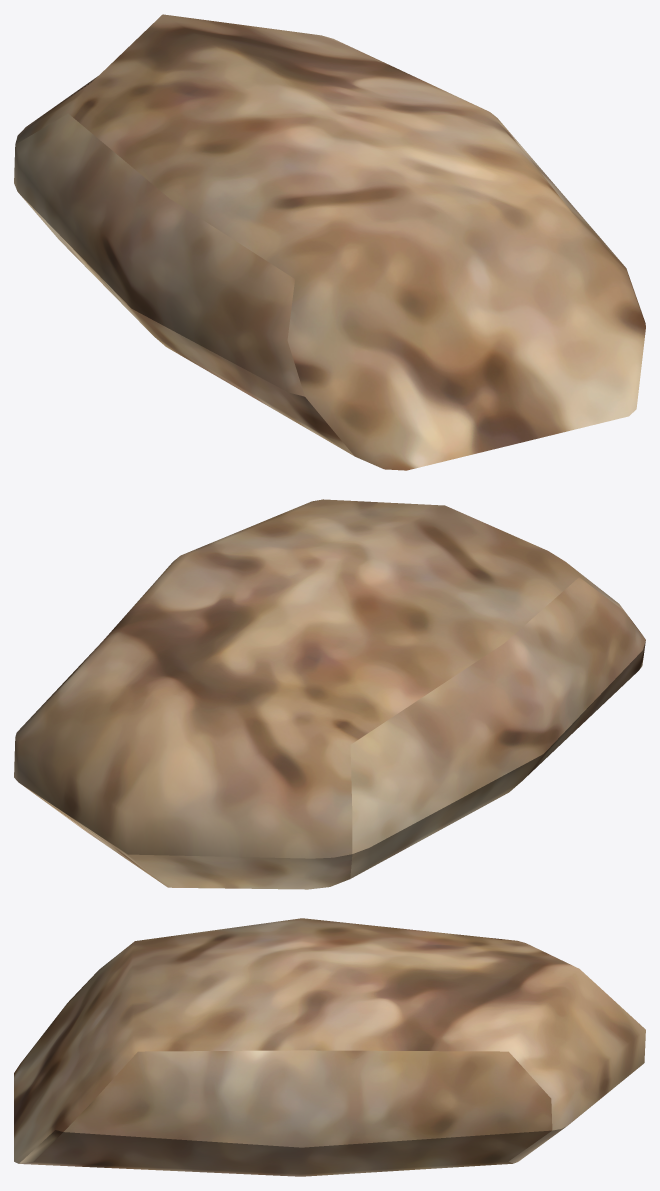
Rendered from Rock_1.FBX.
3 renders of one model, top to bottom at view 1: azimuth 30°, elevation 25°; view 2: azimuth 150°, elevation 25°; view 3: azimuth 270°, elevation 25°, orthographic. The views are drawn at different scales.
Parts seen in each view (by area): view 1: Box001; view 2: Box001; view 3: Box001.
Boxes of the visible parts, x1,y1,x2,y2 form: Box001: (14, 14, 645, 470); Box001: (14, 499, 645, 889); Box001: (14, 918, 645, 1176).
Size of the model in its own units: 36.3 by 17.07 by 60.38.
Materials: 1 (1 with a texture image).
